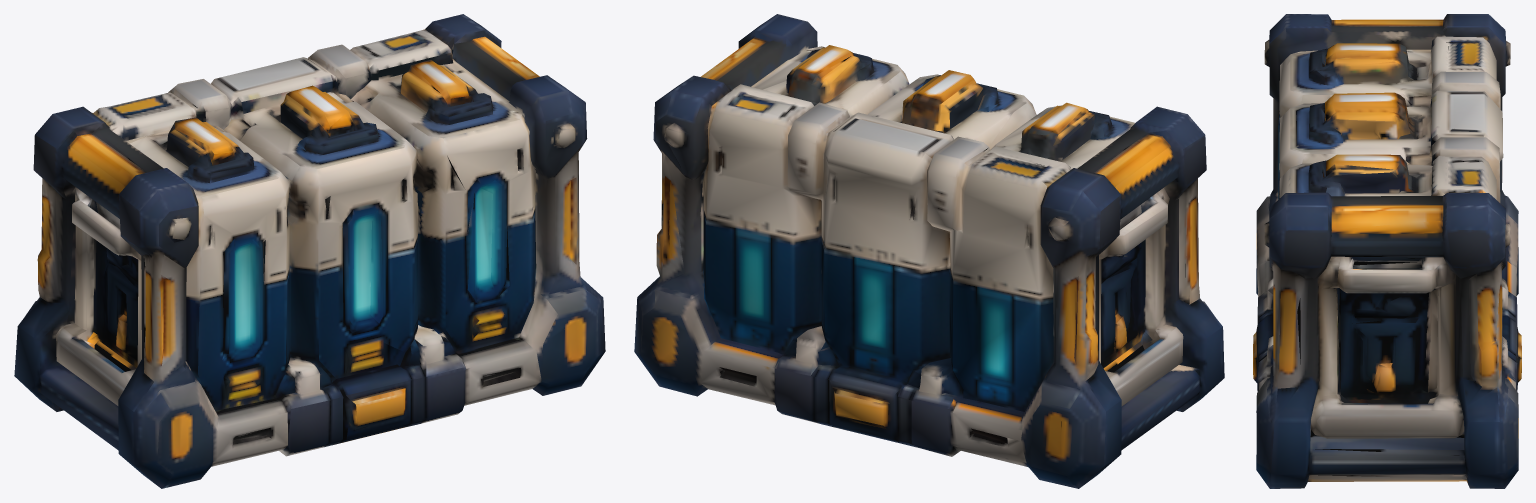
The model's file is industrial-battery-rack_LOD0.glb.
3 views of the same model, side by side, from view 1: azimuth 30°, elevation 25°; view 2: azimuth 150°, elevation 25°; view 3: azimuth 270°, elevation 25° (orthographic). The views are drawn at different scales.
Visible parts, largest first — view 1: industrial-battery-rack_LOD0; view 2: industrial-battery-rack_LOD0; view 3: industrial-battery-rack_LOD0.
Part boxes in pixels (box(x1,y1,x2,y2)): industrial-battery-rack_LOD0: box(14, 14, 605, 488); industrial-battery-rack_LOD0: box(634, 14, 1224, 488); industrial-battery-rack_LOD0: box(1253, 14, 1521, 488).
Bounding box in the file's own units: 2.44 × 1.5 × 1.26.
Materials: 1 (1 with a texture image).
